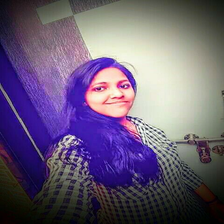no_mask: (89, 75, 135, 116)
